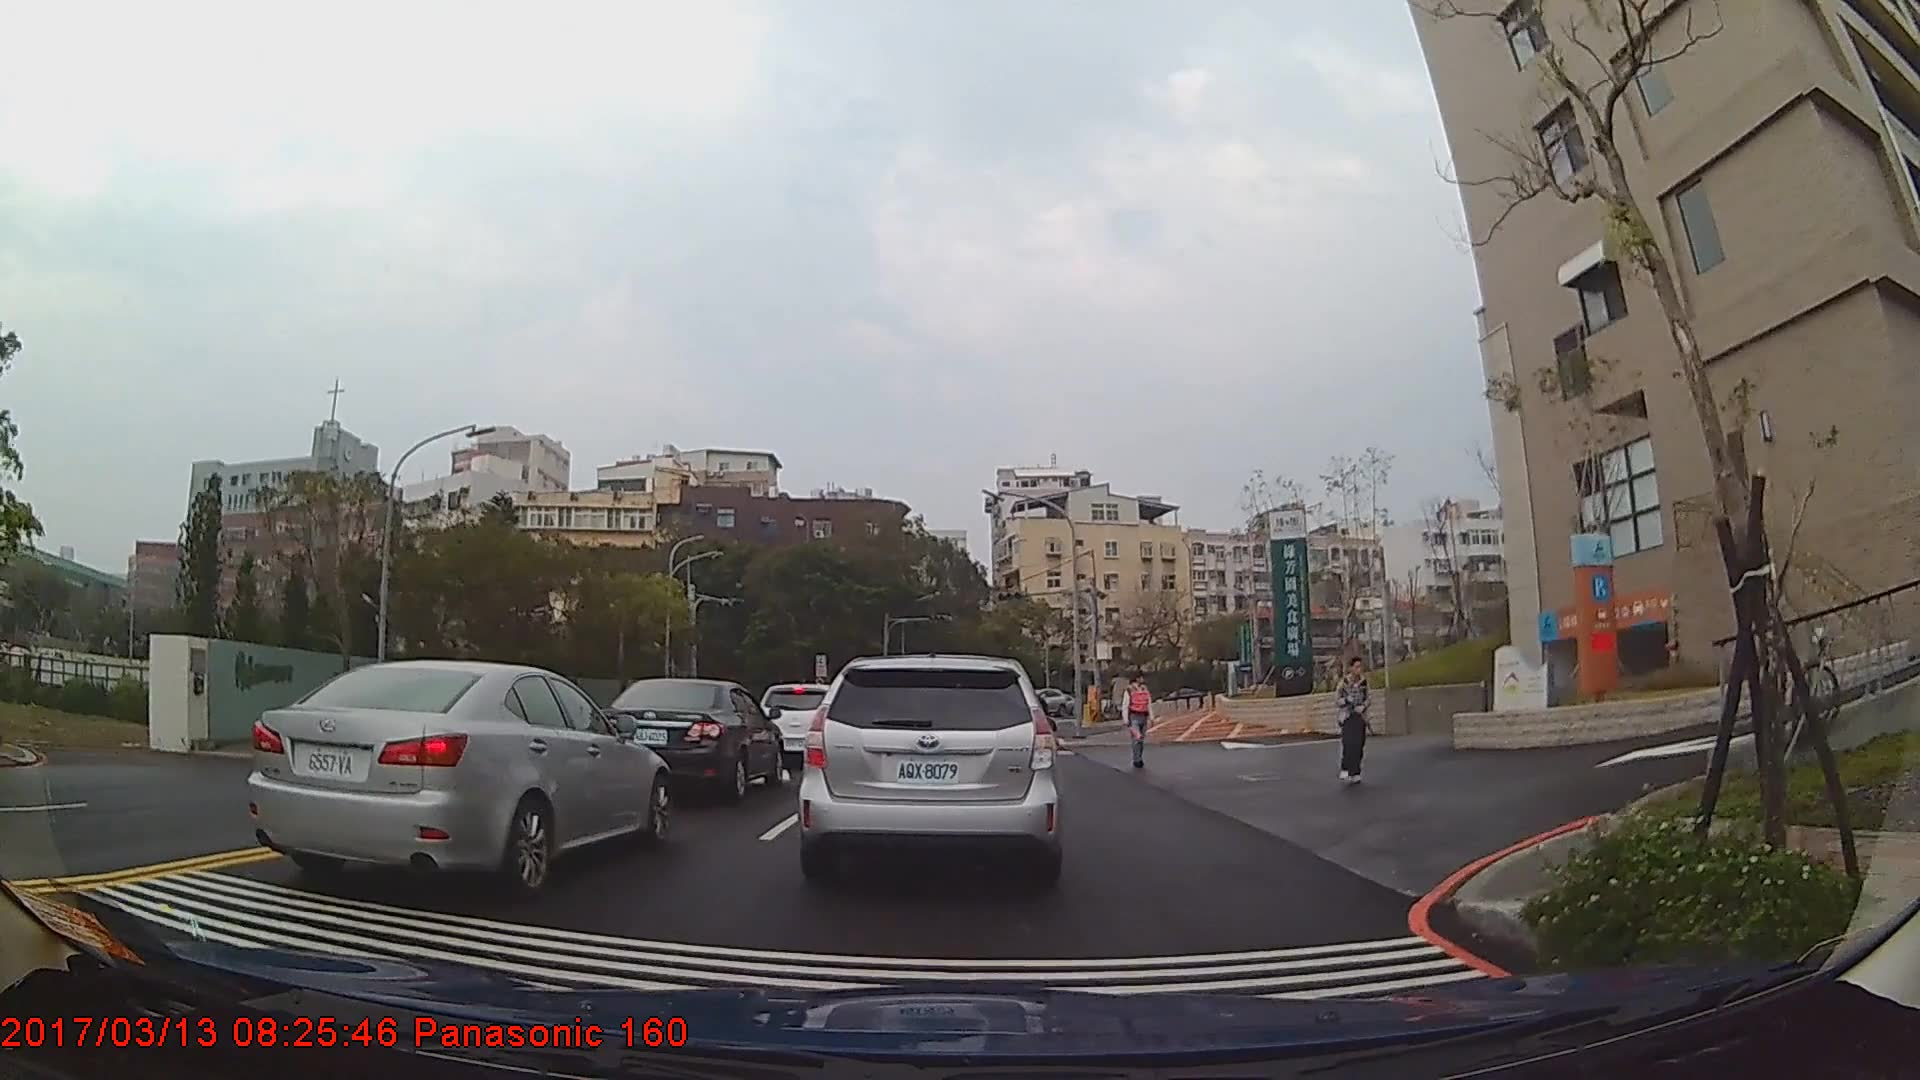pedestrian: (1336, 657, 1376, 786), (1123, 671, 1155, 770)
vehicle: (247, 661, 670, 895), (797, 653, 1062, 888), (595, 677, 784, 798)
